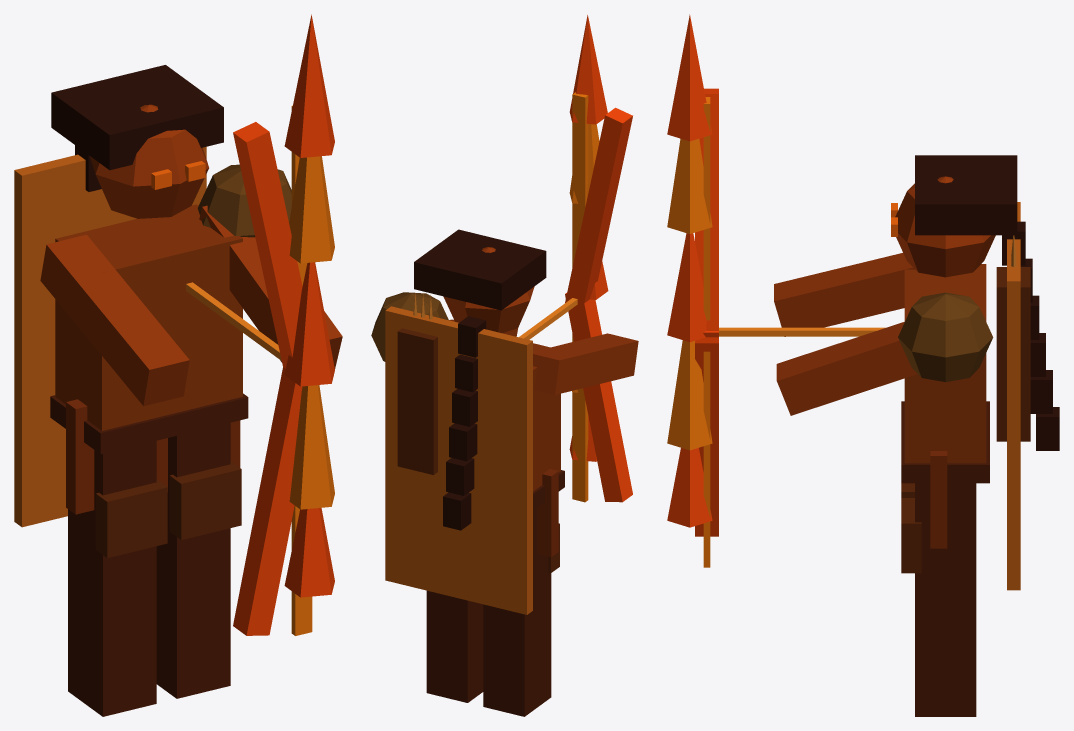
File: SM_Champion_9014_Pyra.glb
3 views of the same model, side by side, from view 1: azimuth 30°, elevation 25°; view 2: azimuth 150°, elevation 25°; view 3: azimuth 270°, elevation 25° (orthographic). The views are drawn at different scales.
Visible parts, largest first — view 1: SM_Champion_9014_Pyra; view 2: SM_Champion_9014_Pyra; view 3: SM_Champion_9014_Pyra.
Boxes of the visible parts, x1,y1,x2,y2 form: SM_Champion_9014_Pyra: (14,14,342,716); SM_Champion_9014_Pyra: (371,15,638,716); SM_Champion_9014_Pyra: (667,14,1059,716).
Bounding box in the file's own units: 0.6019 × 1.82 × 0.9495.
